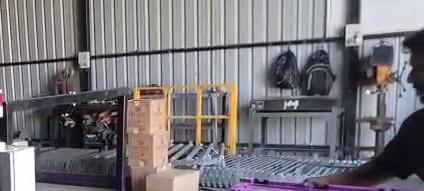box: (231, 180, 385, 190)
